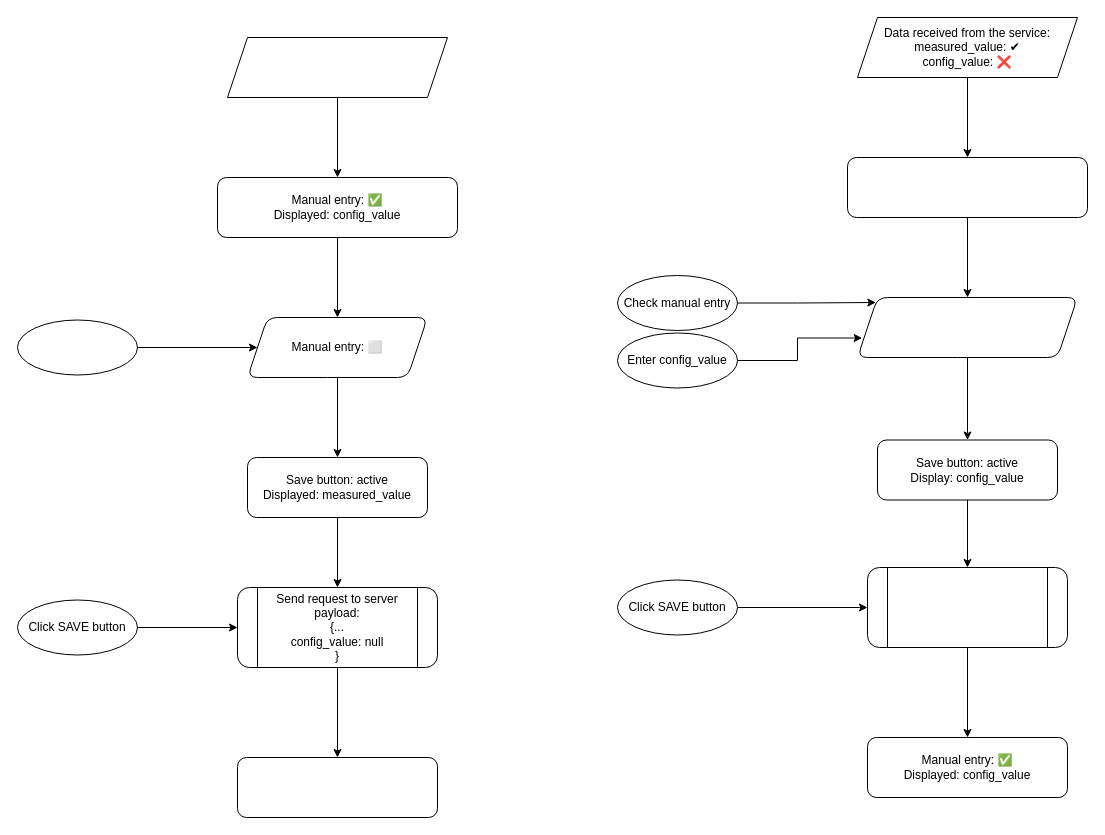
This 1105x835 diagram has some shape labels left out. Here are the shapes that lost their labels. From the top down, the centre of each, then its label:
At [337,67]: "Data received from the service: measured_value: ✔ config_value: ✔".
At [967,187]: "Manual entry: ⬜ Display: measured_value".
At [77,347]: "Uncheck manual entry".
At [967,327]: "Manual entry: ✅ value: config_value".
At [967,607]: "Send request to server payload: {... config_value: !null }".
At [337,787]: "Manual entry: ⬜ Displayed: measured_value".
